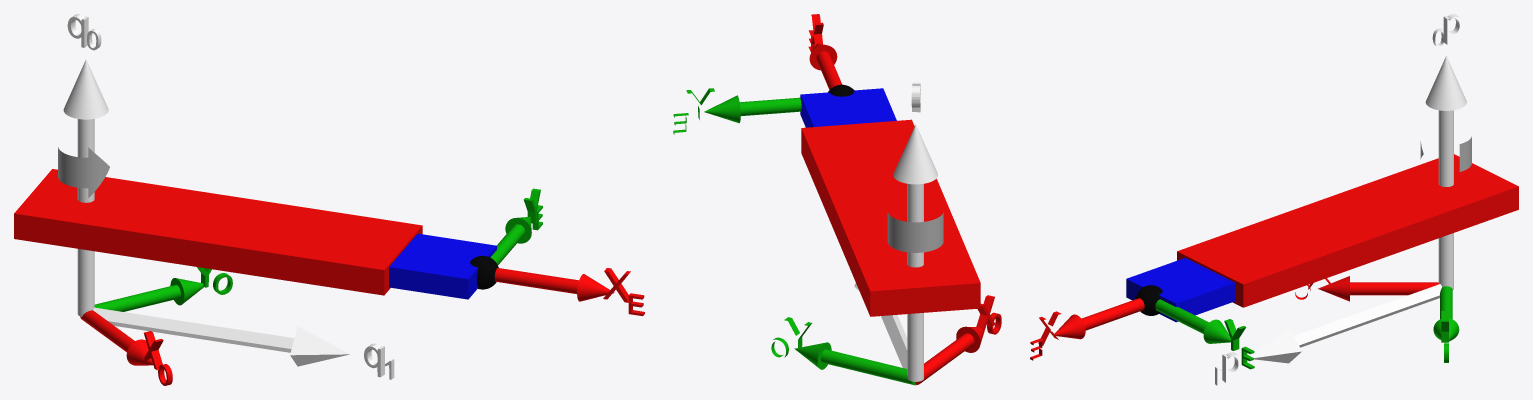
Rendered from fig7_4c.gltf.
3 views of the same model, side by side, from view 1: azimuth 30°, elevation 25°; view 2: azimuth 150°, elevation 25°; view 3: azimuth 270°, elevation 25° (orthographic). The views are drawn at different scales.
Visible parts, largest first — view 1: Renderer Node; view 2: Renderer Node; view 3: Renderer Node.
Part boxes in pixels (box(x1,y1,x2,y2)): Renderer Node: box(14, 14, 644, 385); Renderer Node: box(673, 14, 1001, 385); Renderer Node: box(1030, 14, 1518, 385).
Bounding box in the file's own units: 1.72 × 1.24 × 1.9.
